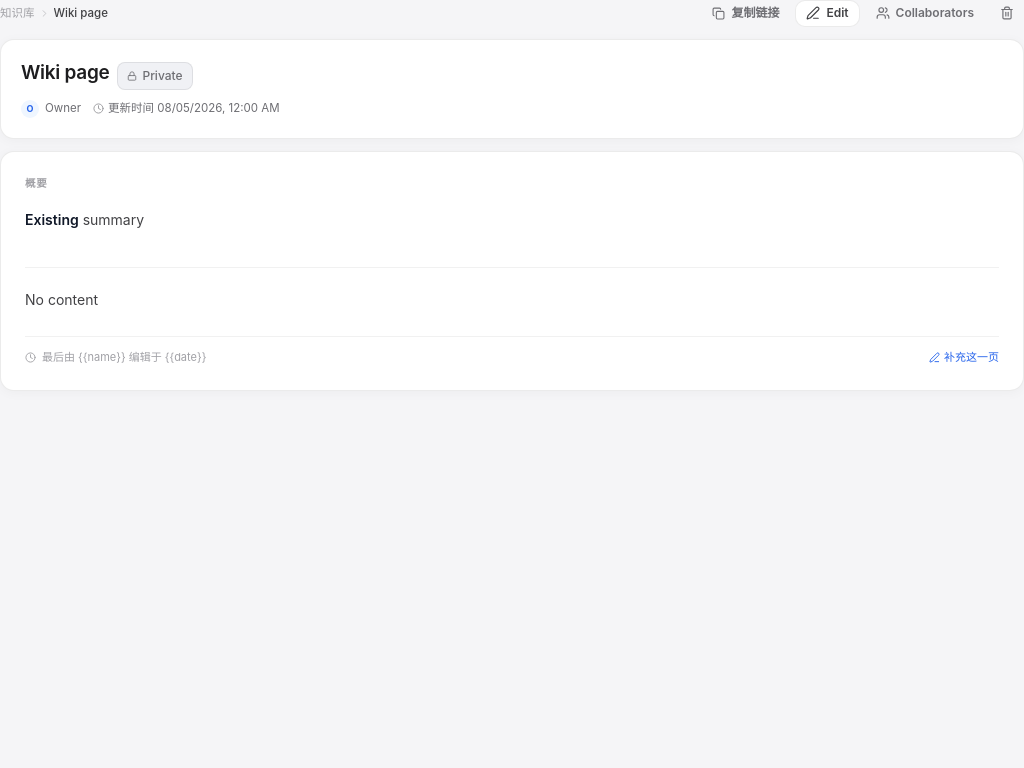
WikiDetailPage › provides a Markdown summary input while editing
Click the button "Edit".
click(827, 13)  # box 795,0 -> 860,27
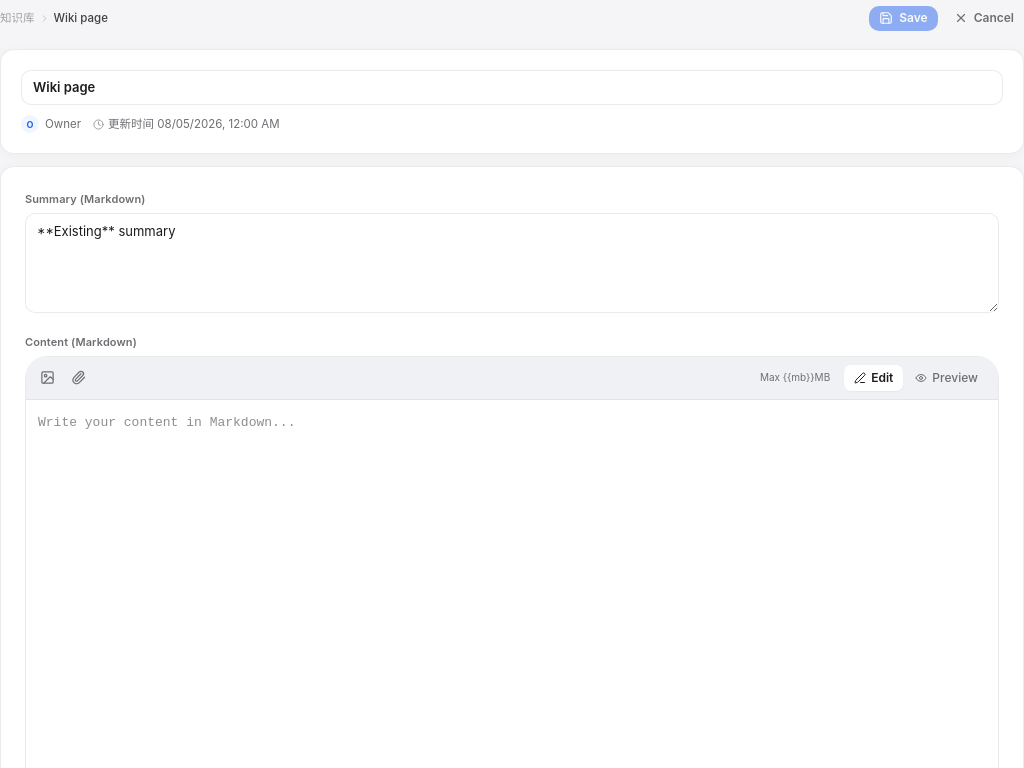
Check: the text box labelled "Summary (Markdown)" holds "**Existing** summary", box 25,213 -> 999,313
